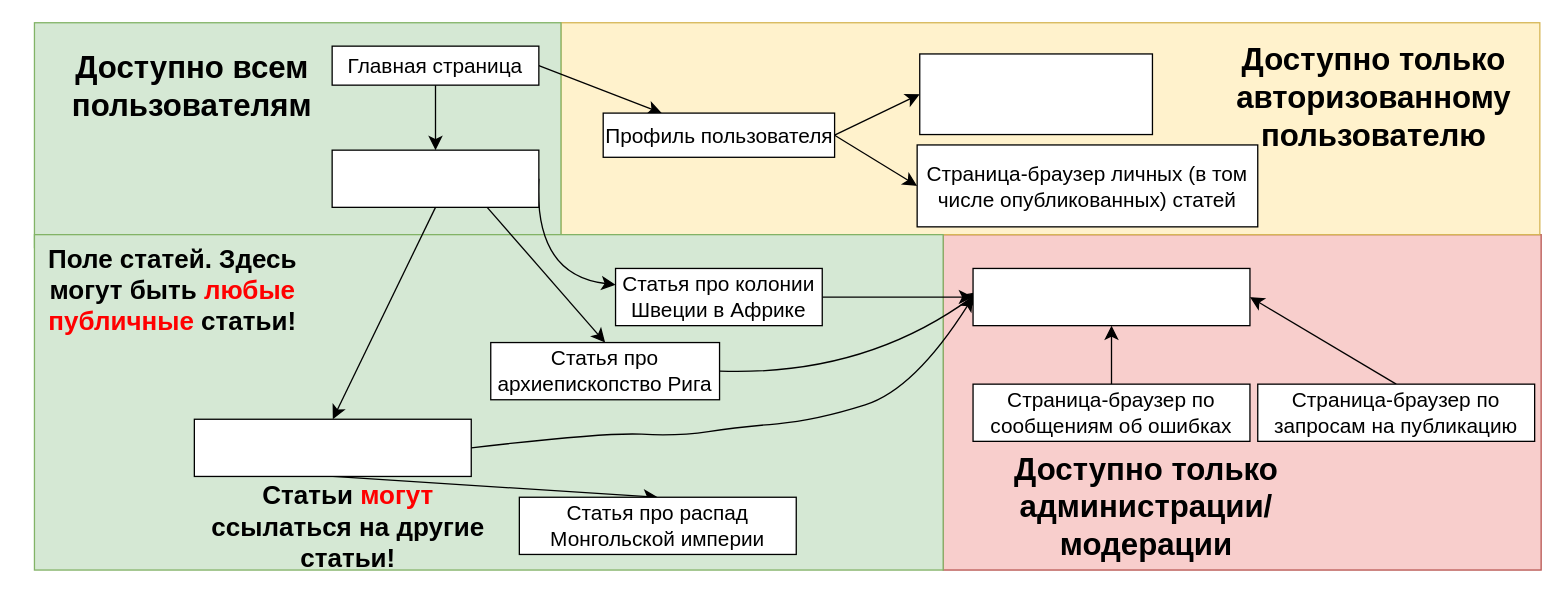
Some shapes in this 1565 by 595 pixel diagram are drawn without their labels. The centre of each missing label's shape, as x and y in pixels:
"Статья про основание империи Великих Моголов" belongs at pixel 332 447.
"Страница-браузер статей" belongs at pixel 435 178.
"Страница-редактор для создания новой статьи" belongs at pixel 1035 94.
"Страница-редактор статьи" belongs at pixel 1111 296.
